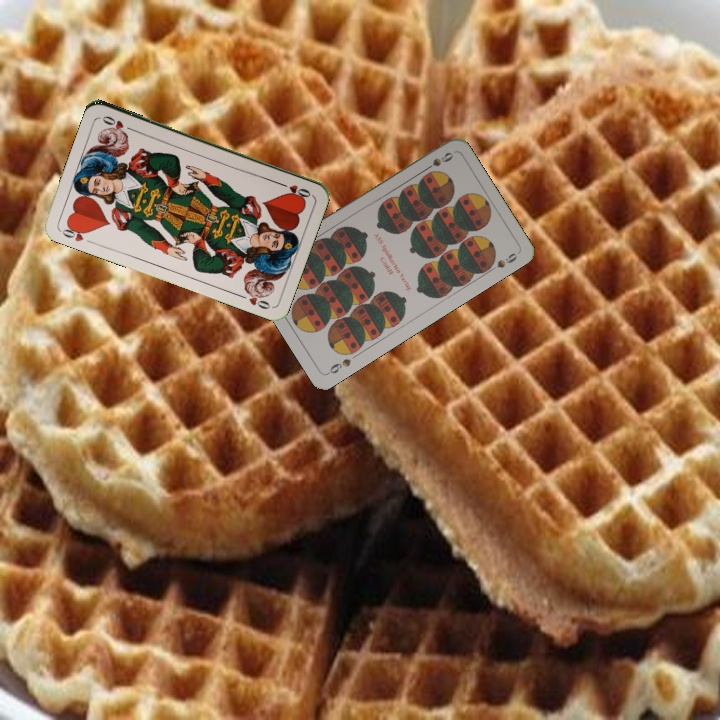HO: (56, 220, 92, 244), (275, 178, 313, 200)
S9: (419, 148, 456, 175), (324, 354, 354, 377)
